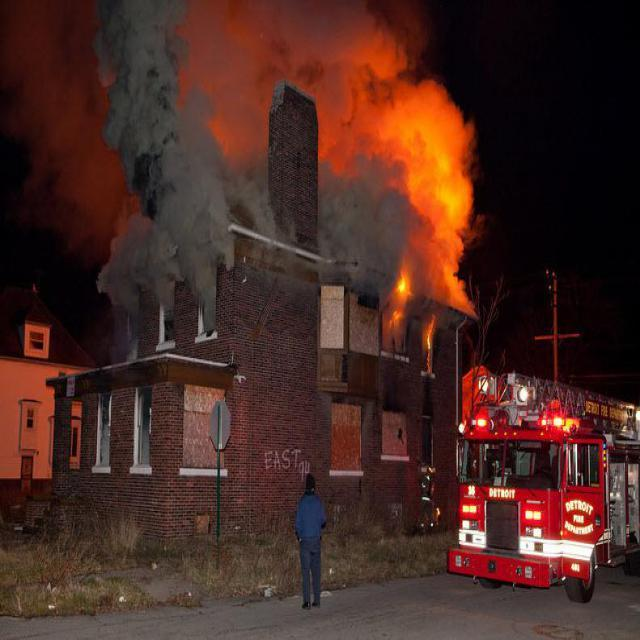Fire: (308, 54, 508, 340)
